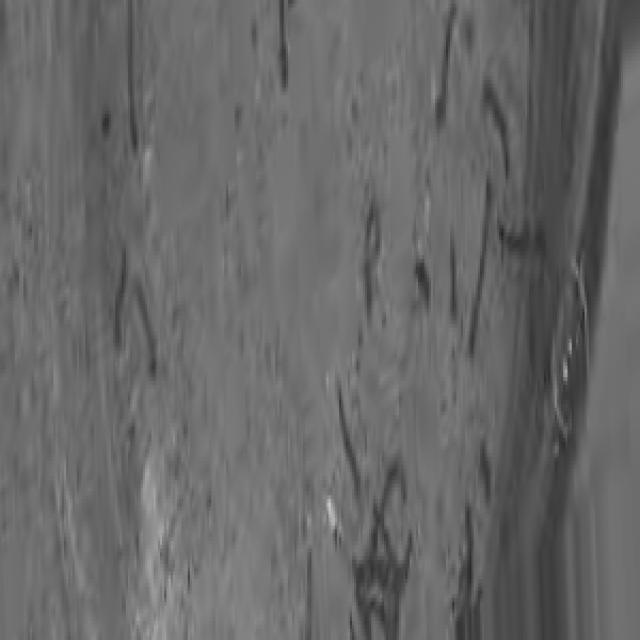larvas: (469, 182, 494, 348), (377, 451, 414, 531), (337, 384, 361, 497), (483, 81, 511, 174), (436, 0, 457, 120), (351, 547, 412, 586), (363, 203, 384, 314), (134, 282, 157, 381), (125, 0, 138, 149), (371, 498, 399, 565), (347, 603, 391, 640), (496, 214, 535, 253), (114, 247, 128, 345), (446, 234, 459, 317), (476, 437, 494, 495), (465, 512, 476, 602), (278, 0, 288, 92), (304, 550, 314, 640), (450, 569, 462, 611)
